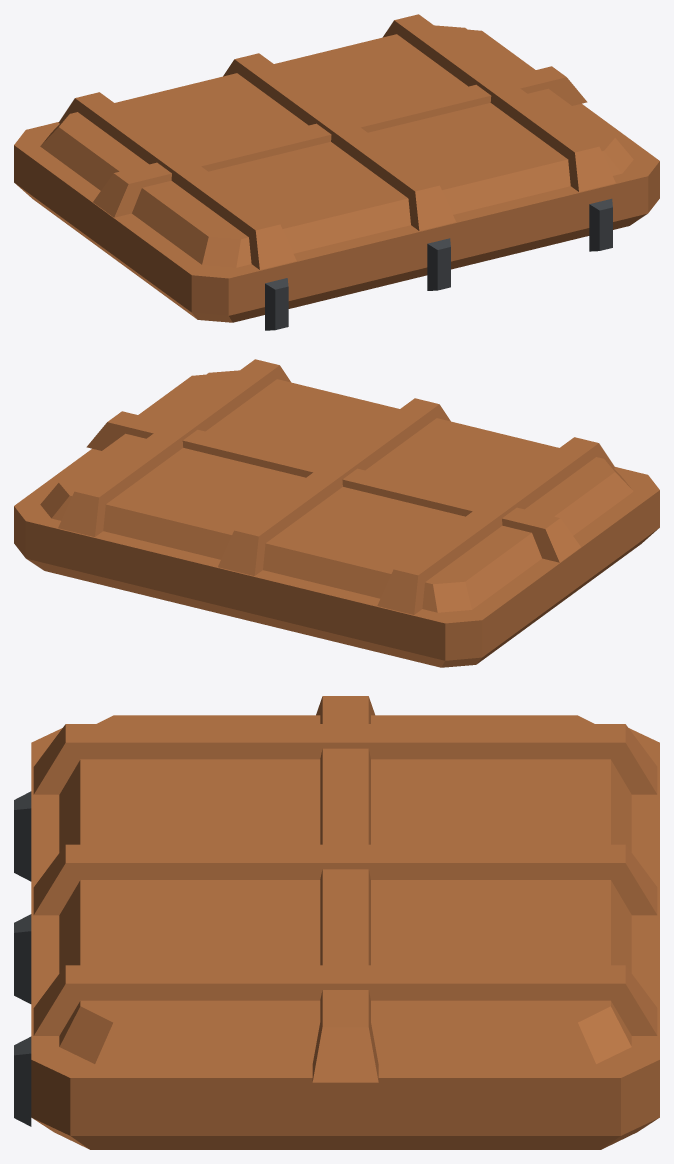
The model's file is SM_Prop_Crate_Plastic_Lid_03.fbx.
The picture shows the model from 3 angles, top to bottom: view 1: azimuth 30°, elevation 25°; view 2: azimuth 150°, elevation 25°; view 3: azimuth 270°, elevation 25°; orthographic projection. The views are drawn at different scales.
Parts seen in each view (by area): view 1: SM_Prop_Crate_Plastic_Lid_03; view 2: SM_Prop_Crate_Plastic_Lid_03; view 3: SM_Prop_Crate_Plastic_Lid_03.
Boxes of the visible parts, x1,y1,x2,y2 form: SM_Prop_Crate_Plastic_Lid_03: (14, 14, 659, 330); SM_Prop_Crate_Plastic_Lid_03: (14, 359, 659, 667); SM_Prop_Crate_Plastic_Lid_03: (14, 696, 659, 1149).
Bounding box in the file's own units: 105 × 19.36 × 79.8.
